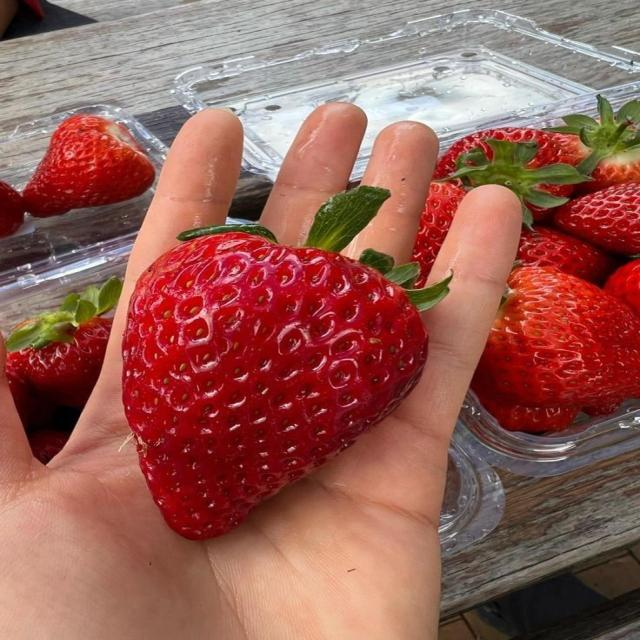strawberry: (123, 187, 450, 539), (474, 267, 639, 408), (7, 278, 121, 407), (23, 115, 154, 217), (449, 139, 587, 226), (548, 96, 639, 192), (434, 128, 574, 180), (554, 182, 639, 255), (517, 226, 616, 284), (412, 183, 466, 287), (479, 394, 578, 433), (7, 359, 54, 429), (605, 260, 639, 315), (0, 181, 25, 236), (29, 430, 69, 463)
